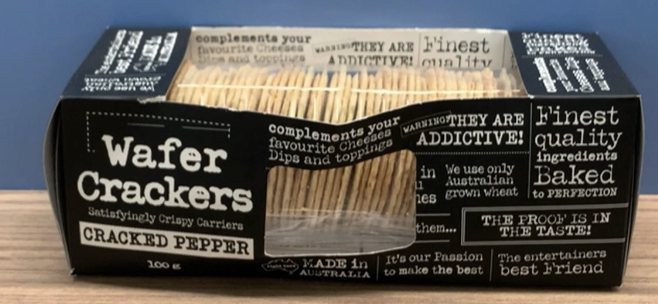crackers_150g: (77, 60, 614, 276)
